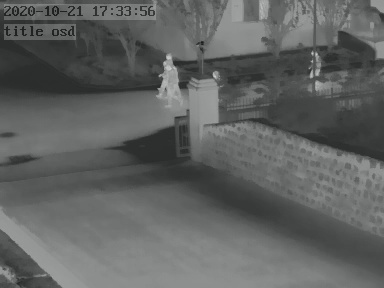person: (157, 55, 181, 103)
